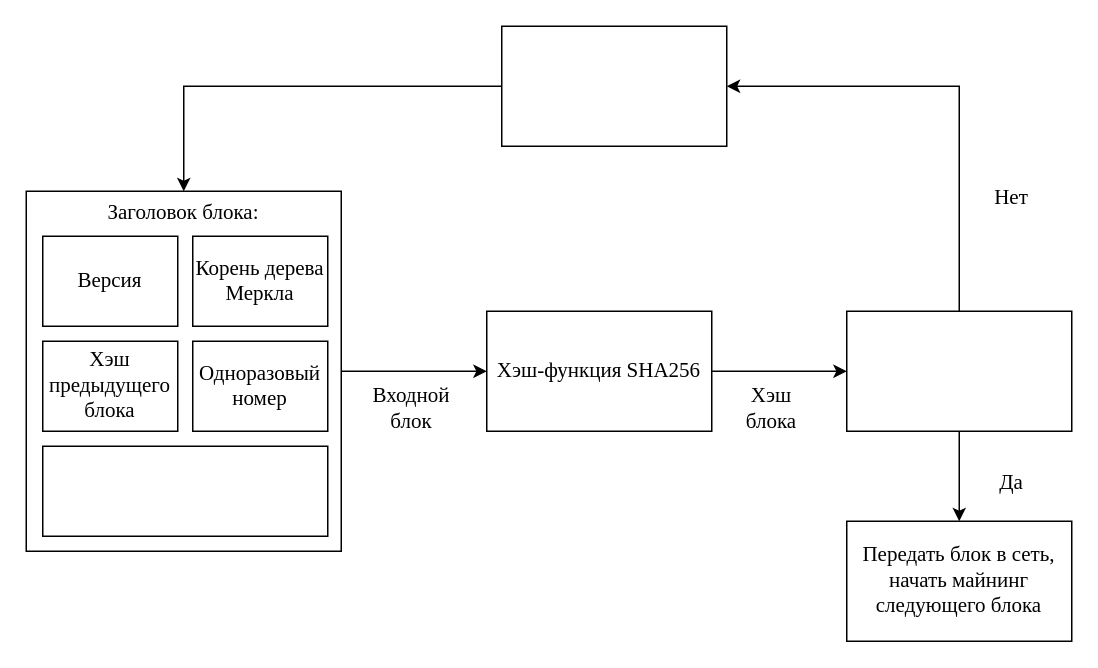
Image size: 1098x668. Some labels were removed from this diagram. Each missing label, with the centre of its shape:
"Отметка времени" goes at point 184,490.
"Попробовать другое значение одноразового номера" goes at point 613,85.
"Хэш блока удовлетворяет требованиям ?" goes at point 958,370.
